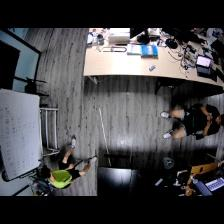normal: (43, 137, 97, 188), (158, 105, 224, 139)
